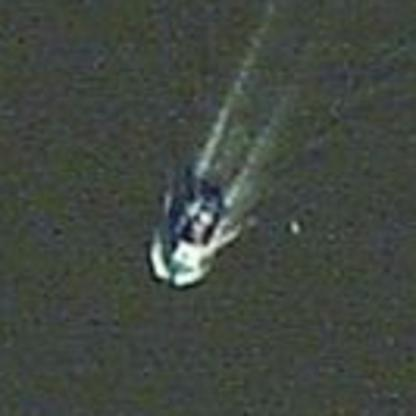ship: (138, 156, 262, 296)
